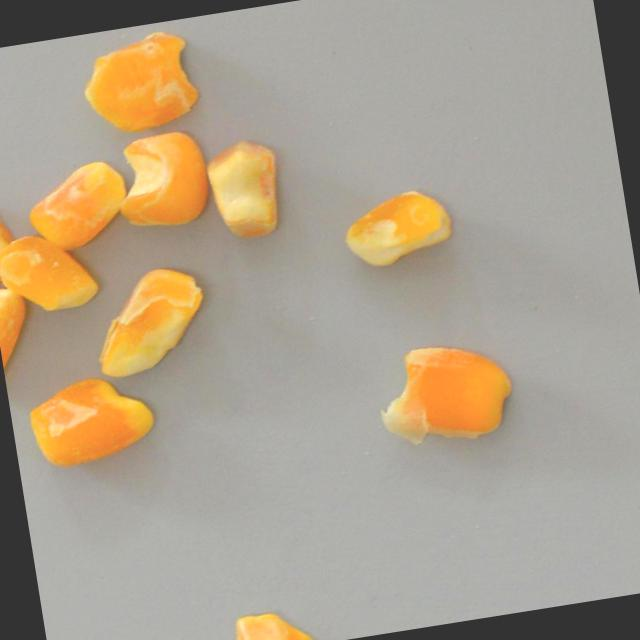dañado: (18, 365, 165, 476), (86, 260, 212, 380), (20, 155, 135, 259), (0, 273, 38, 397), (0, 172, 21, 288)
pelicula: (368, 331, 524, 458), (73, 24, 207, 140), (107, 124, 214, 237), (338, 184, 457, 273), (201, 135, 290, 246), (0, 224, 102, 320), (217, 605, 319, 640)
